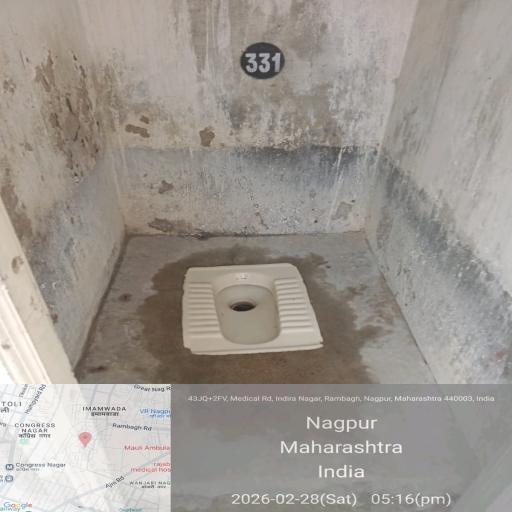partial_dirty_floor: (114, 231, 397, 388), (174, 13, 392, 190), (0, 45, 176, 187), (392, 46, 512, 238), (408, 254, 512, 370), (5, 190, 87, 318)
partial_dirty_indian: (185, 259, 319, 352)
